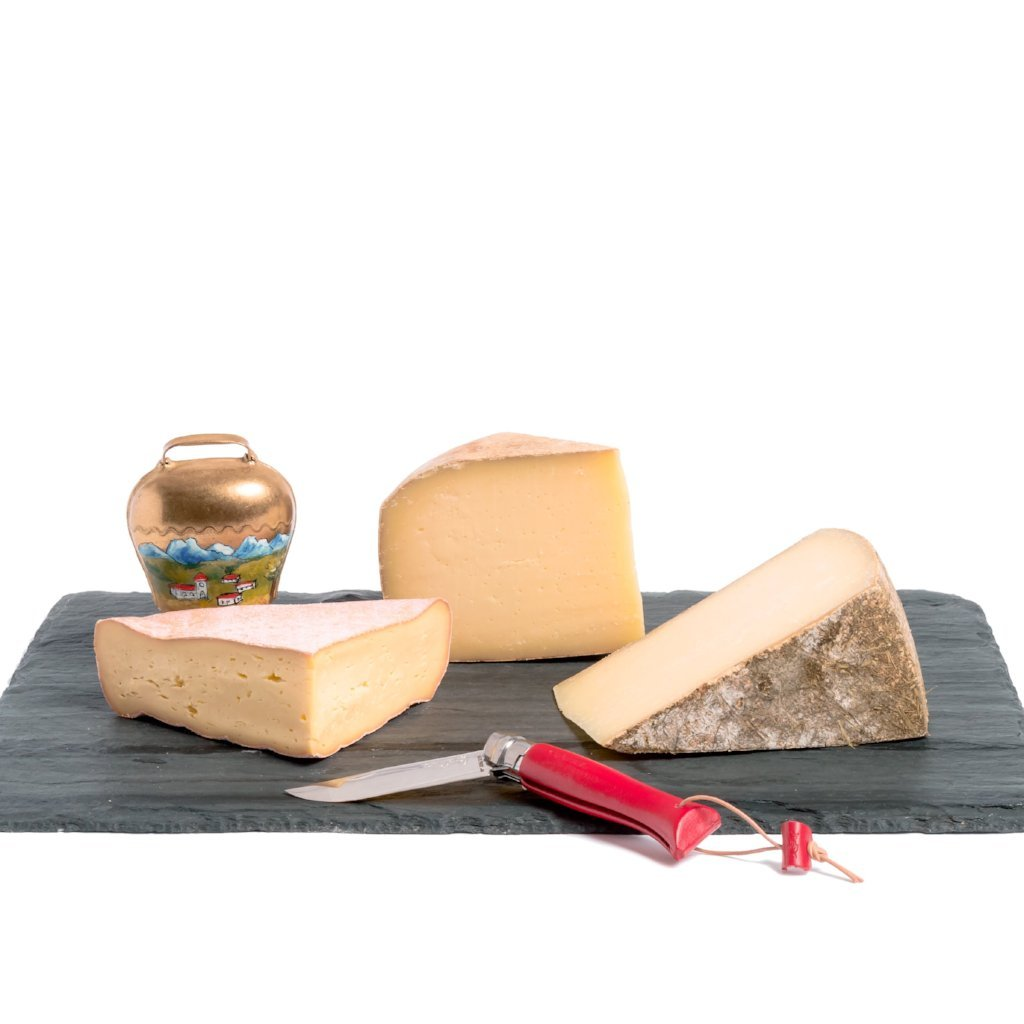cheese: (555, 505, 935, 779), (87, 601, 487, 773), (363, 426, 636, 672)
